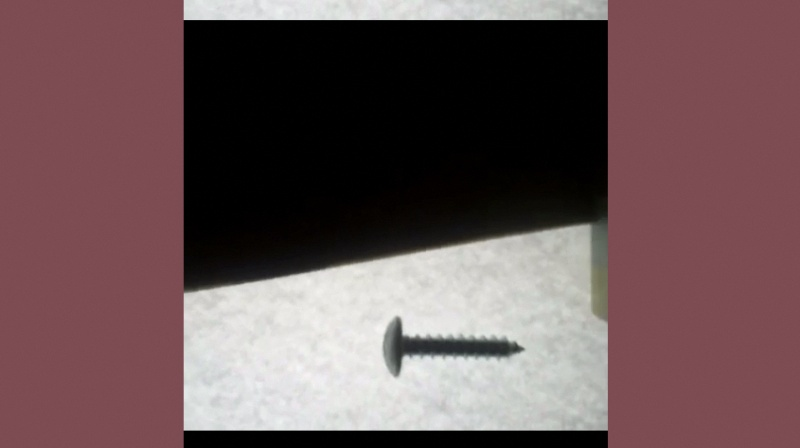S003: (378, 309, 526, 379)
